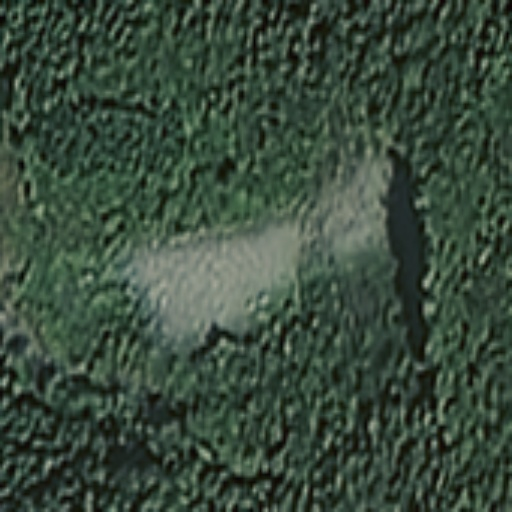landslide: (134, 154, 392, 342)
